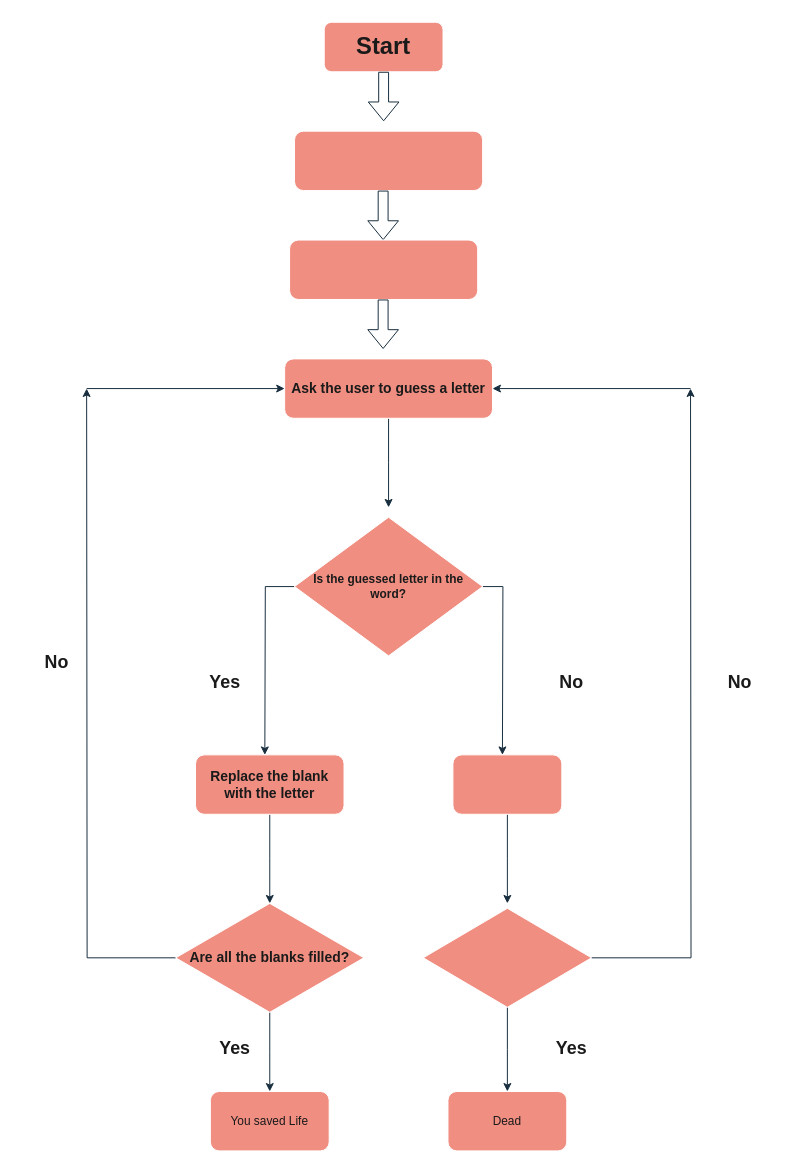
Some shapes in this 796 by 1168 pixel diagram are drawn without their labels. Each missing label, with the centre of its shape:
Generate a random word: point (388, 160)
Generate as many blanks as letters in a word: point (383, 269)
Have they run out of lives?: point (507, 957)
Lose a life: point (507, 784)
